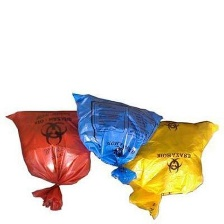plastic_bag: (109, 114, 221, 220), (0, 101, 95, 212), (64, 88, 163, 186)
